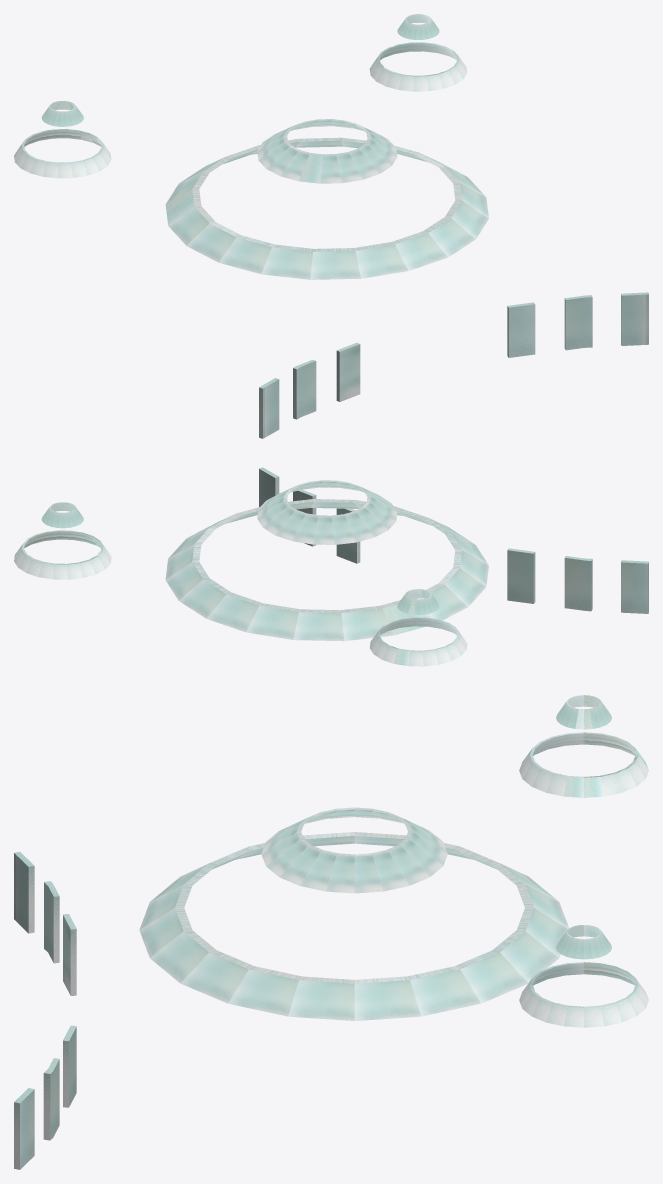
Rendered from Vidrio.obj.
3 views of the same model, one above another, from view 1: azimuth 30°, elevation 25°; view 2: azimuth 150°, elevation 25°; view 3: azimuth 270°, elevation 25° (orthographic). The views are drawn at different scales.
Visible parts, largest first — view 1: Vidrio; view 2: Vidrio; view 3: Vidrio.
Boxes of the visible parts, <box> form: Vidrio: <box>14,14,648,438</box>; Vidrio: <box>14,467,648,666</box>; Vidrio: <box>14,695,648,1169</box>.
Size of the model in its own units: 27507 by 10219 by 25932.
1 material, 1 textured.
